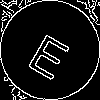E: (25, 25, 77, 81)
